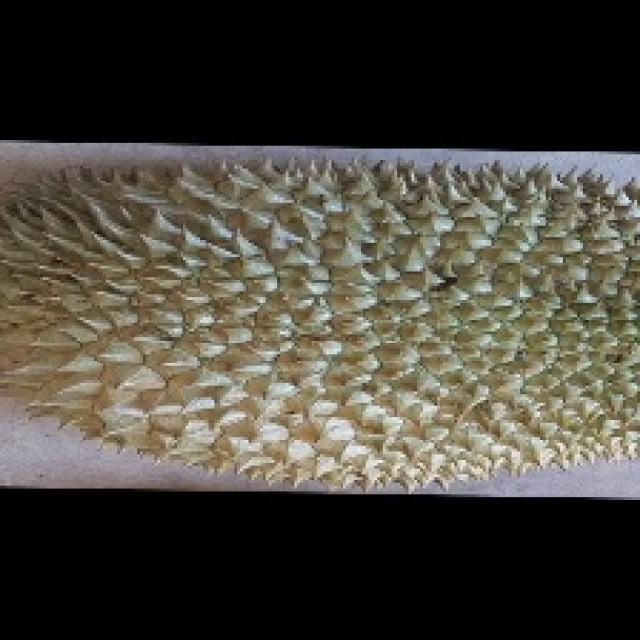d2: (3, 157, 640, 497)
